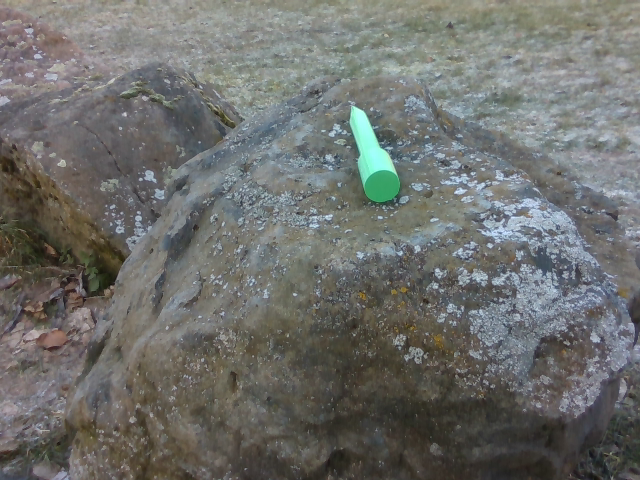Probe: (339, 101, 407, 208)
